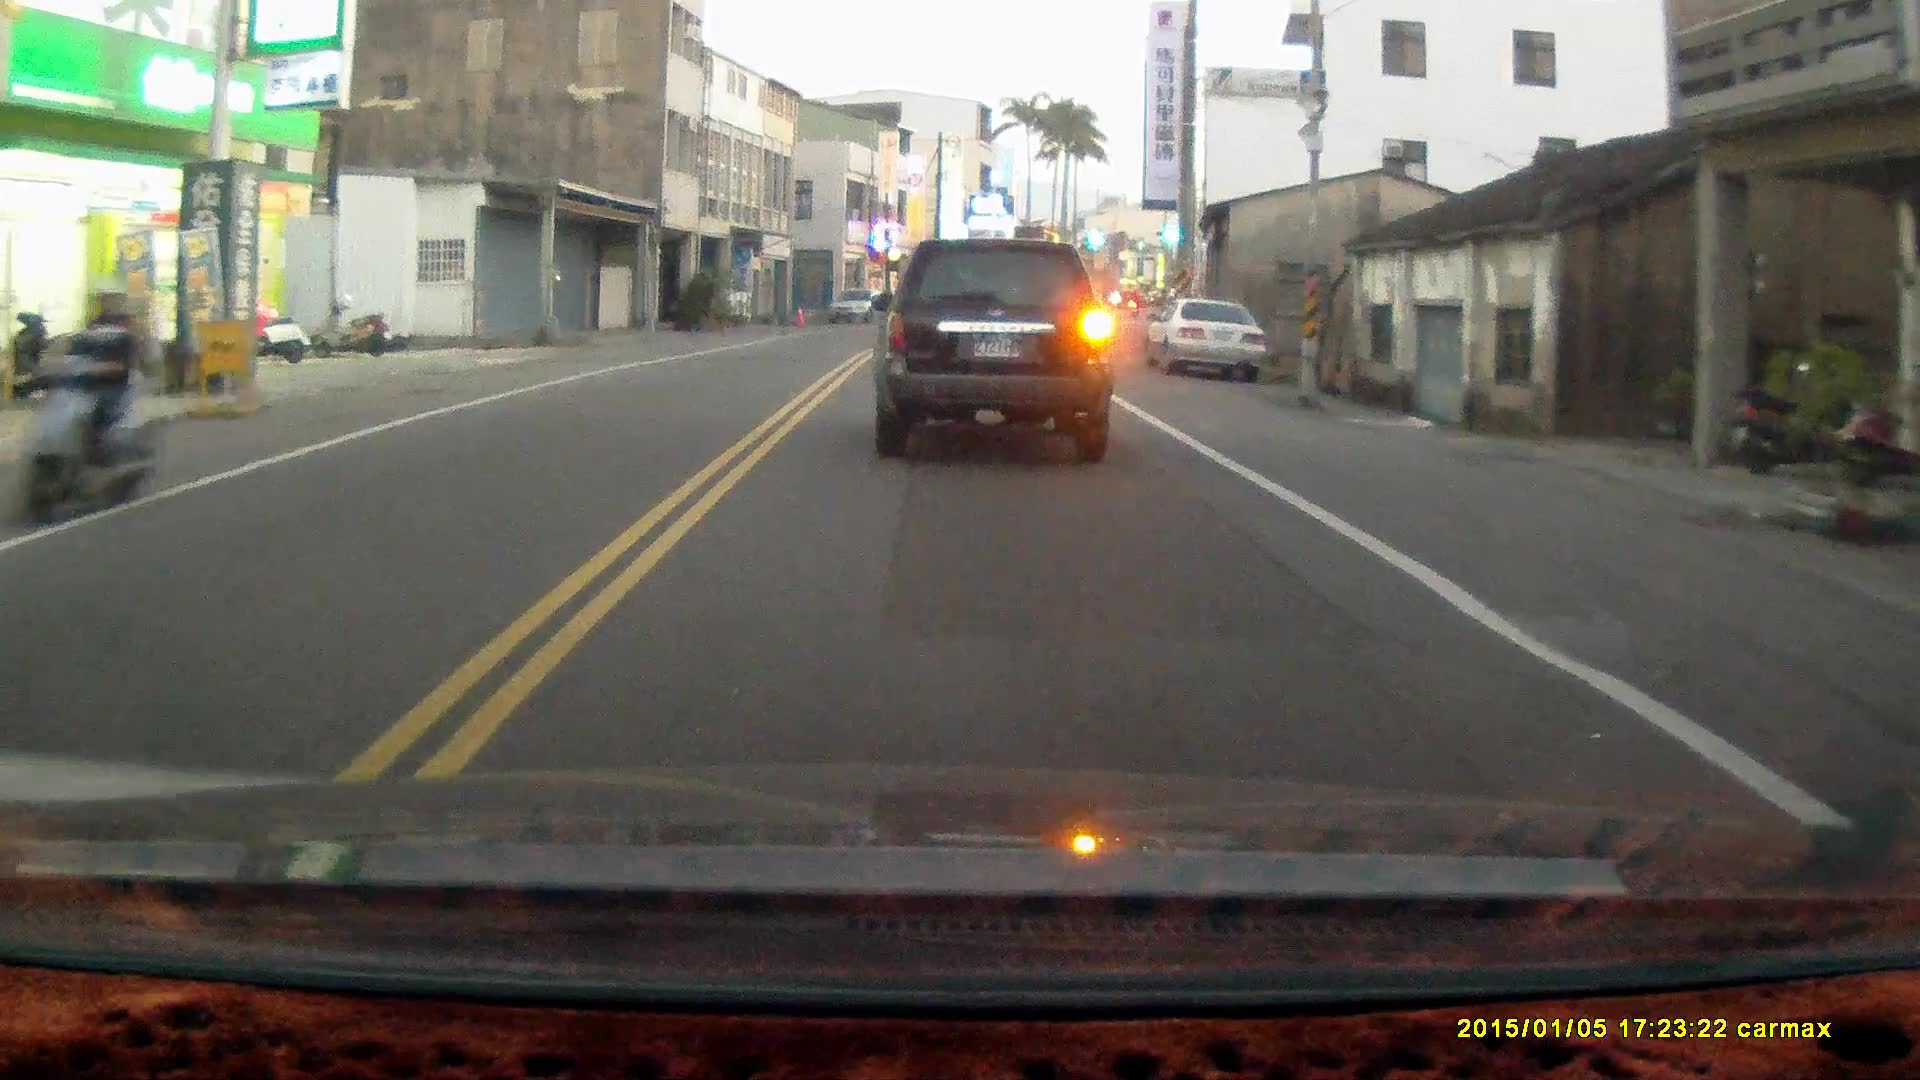rider: (10, 272, 170, 534)
vehicle: (874, 234, 1120, 464), (1148, 302, 1264, 384), (828, 291, 887, 332)
